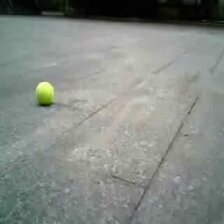tennis: (35, 82, 54, 105)
